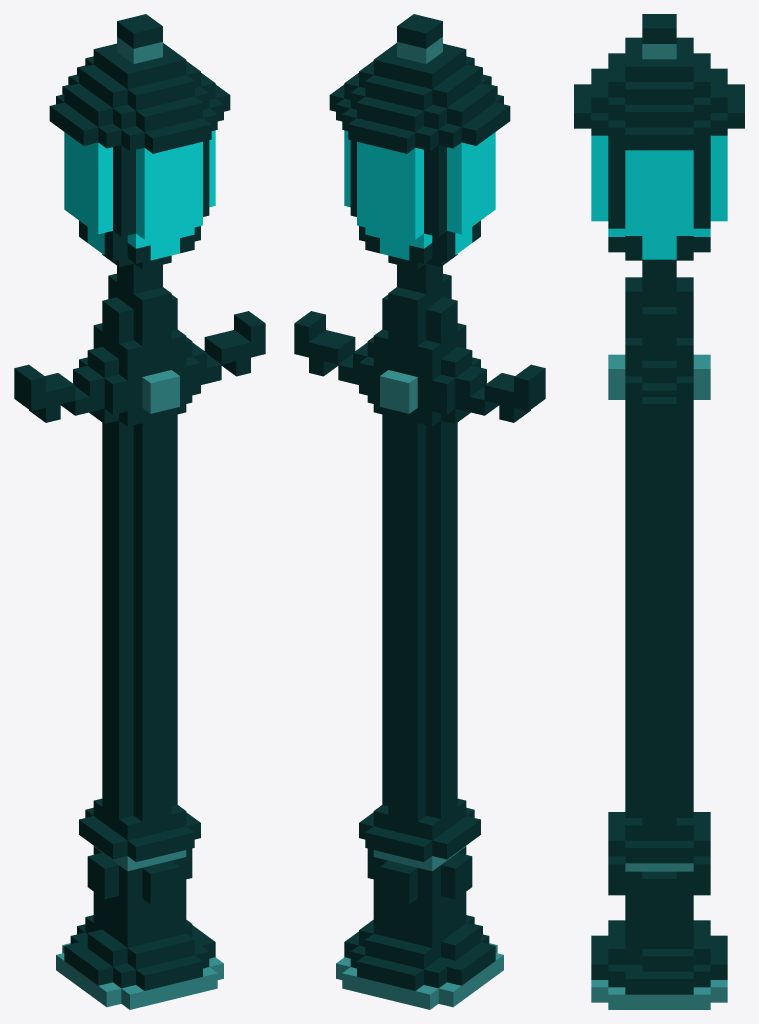
File: prop_lamppost.glb
3 renders of one model, left to right at view 1: azimuth 30°, elevation 25°; view 2: azimuth 150°, elevation 25°; view 3: azimuth 270°, elevation 25°, orthographic.
Parts seen in each view (by area): view 1: prop_lamppost; view 2: prop_lamppost; view 3: prop_lamppost.
Part boxes in pixels (<box>): prop_lamppost: <box>14,14,265,1009</box>; prop_lamppost: <box>294,14,545,1009</box>; prop_lamppost: <box>574,14,744,1009</box>.
Size of the model in its own units: 1.6 by 6.2 by 1.
Materials: 1 (1 with a texture image).
